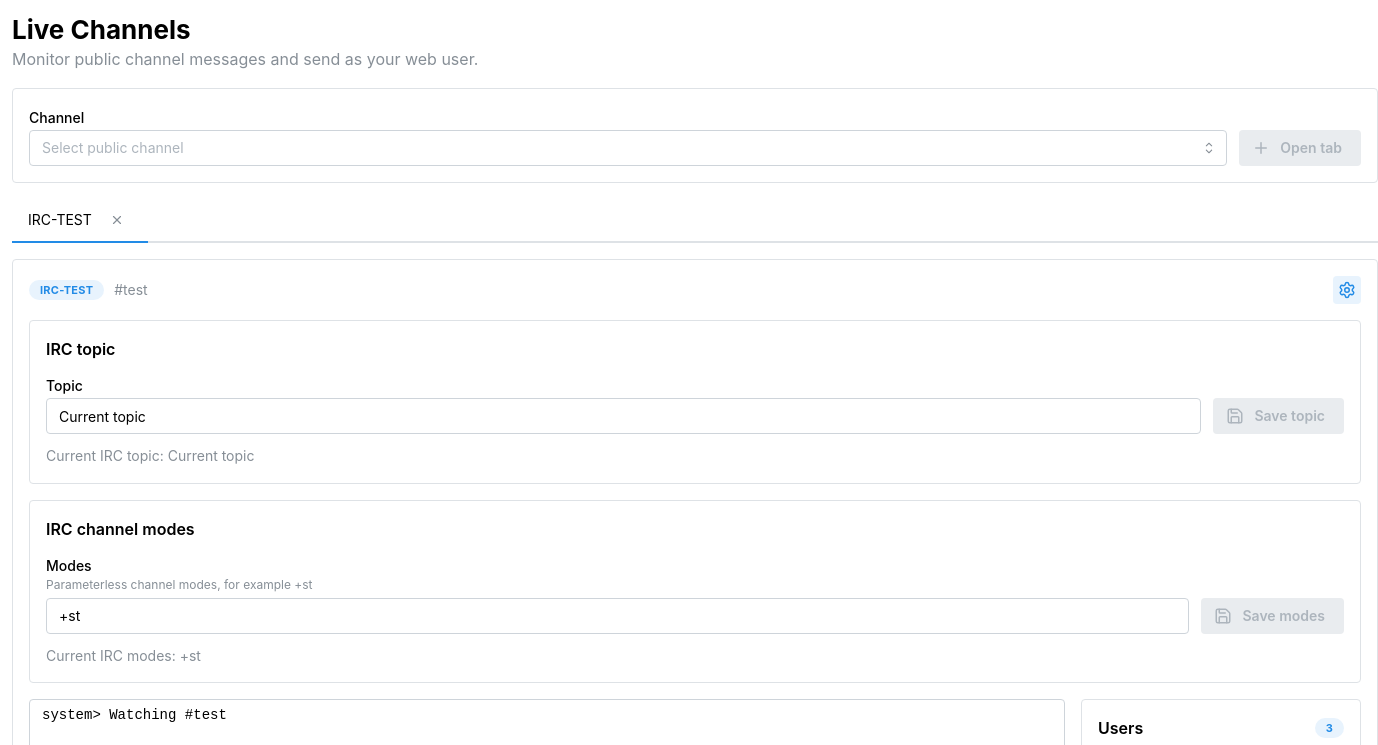
Scenario: LiveChannelsPage › loads, edits, and saves channel settings for an admin channel
Click the button named "Channel settings for IRC-TEST" at [1347, 290], box [1333, 276, 1361, 304]
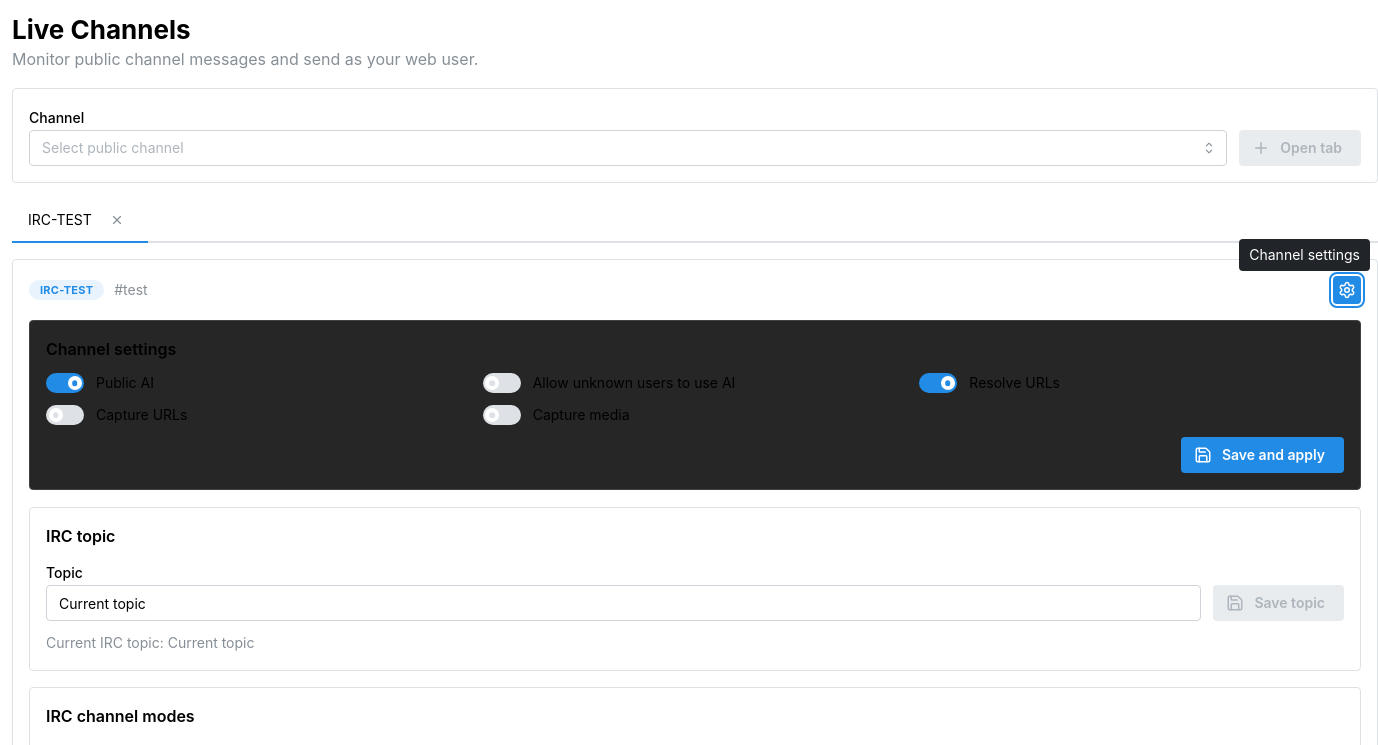
Click the switch labelled "Public AI" at [100, 384], box [46, 374, 154, 394]
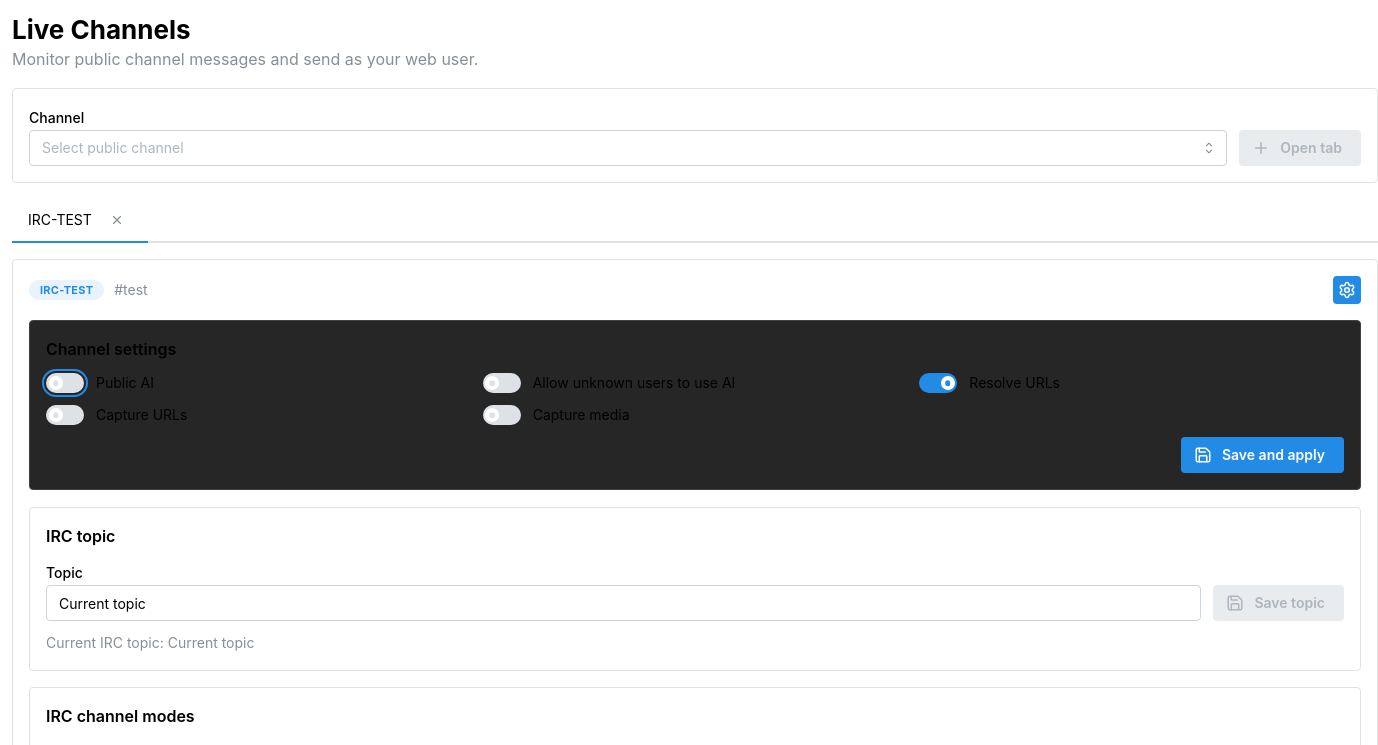
Click the button "Save and apply" at [1262, 456], box [1181, 438, 1344, 474]
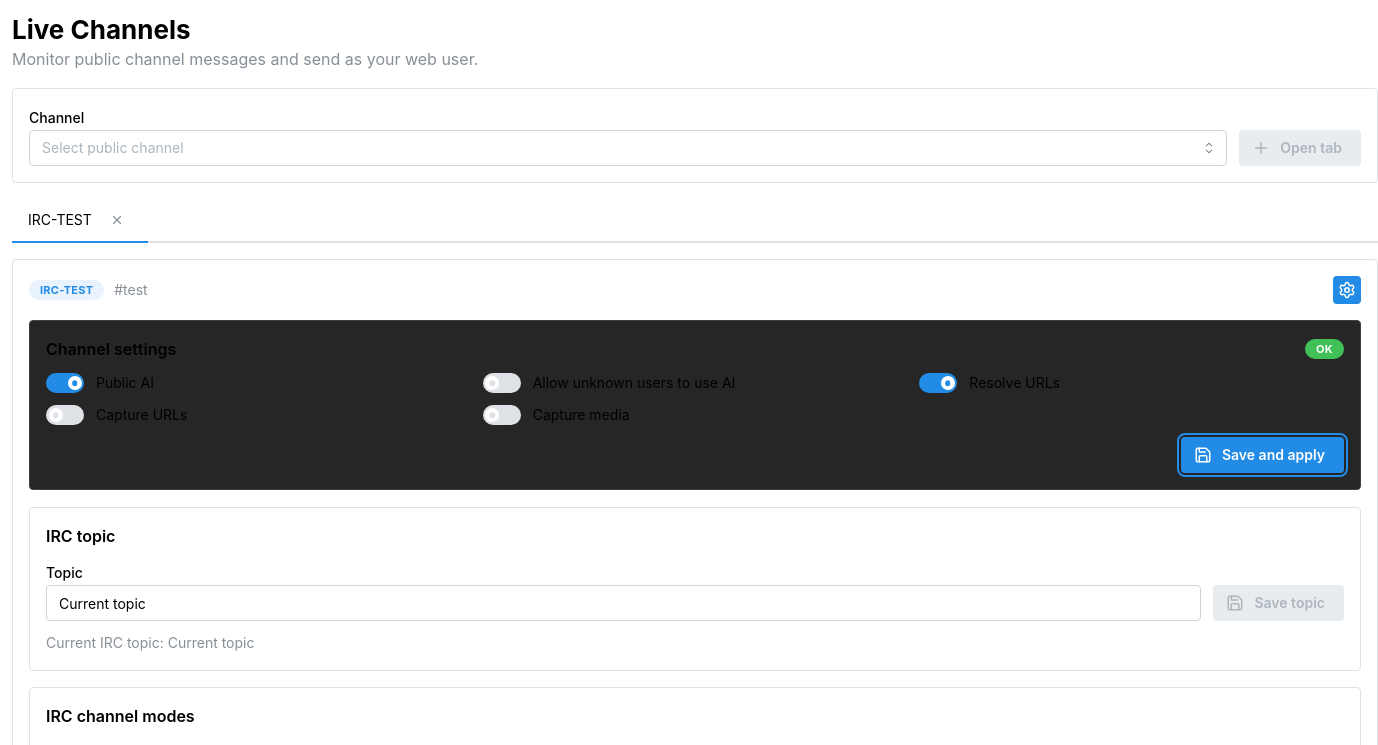
Expected: the text "OK" is shown, [1316, 340, 1333, 358]
